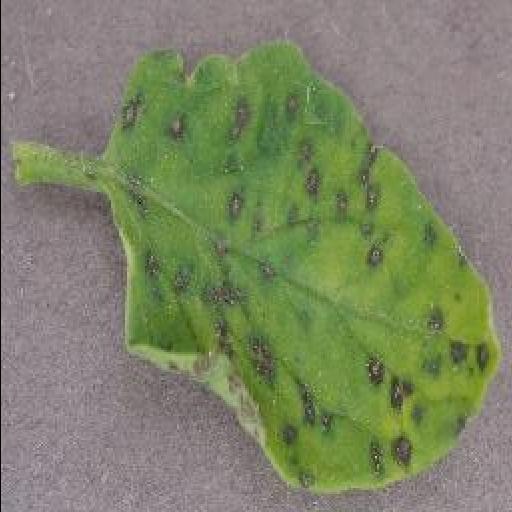disease_tomato: (103, 40, 501, 494)
